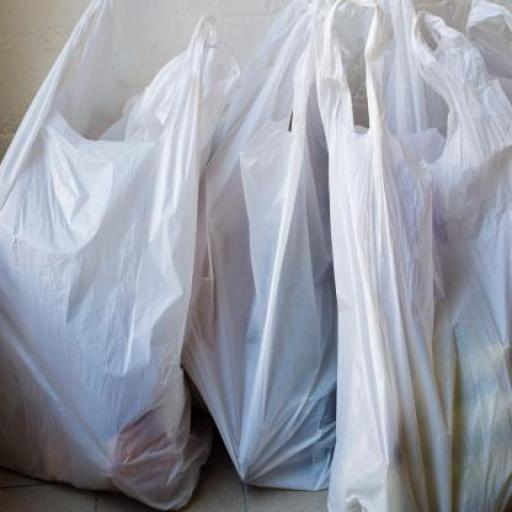plastic bag: (0, 0, 211, 511), (314, 0, 511, 510), (207, 0, 341, 509)
